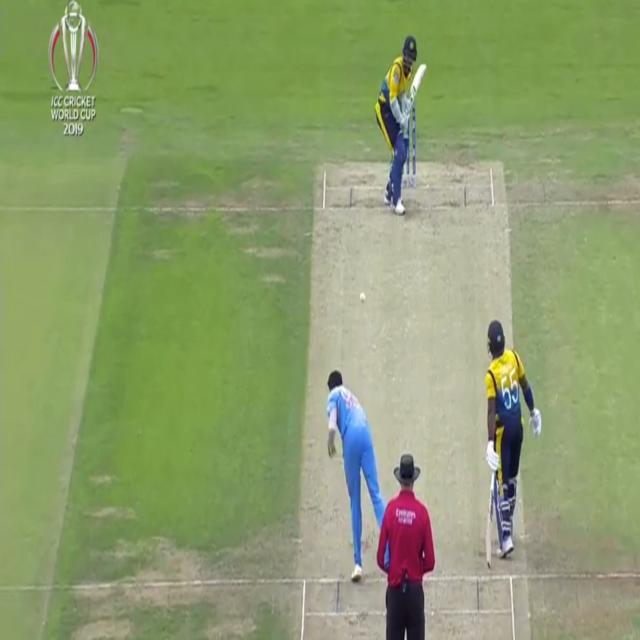Cricket ball: (358, 290, 367, 305)
